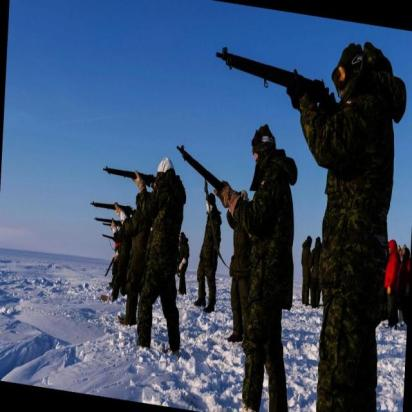Gun: (205, 38, 342, 125), (171, 143, 231, 196), (99, 161, 156, 191), (83, 194, 135, 218)
